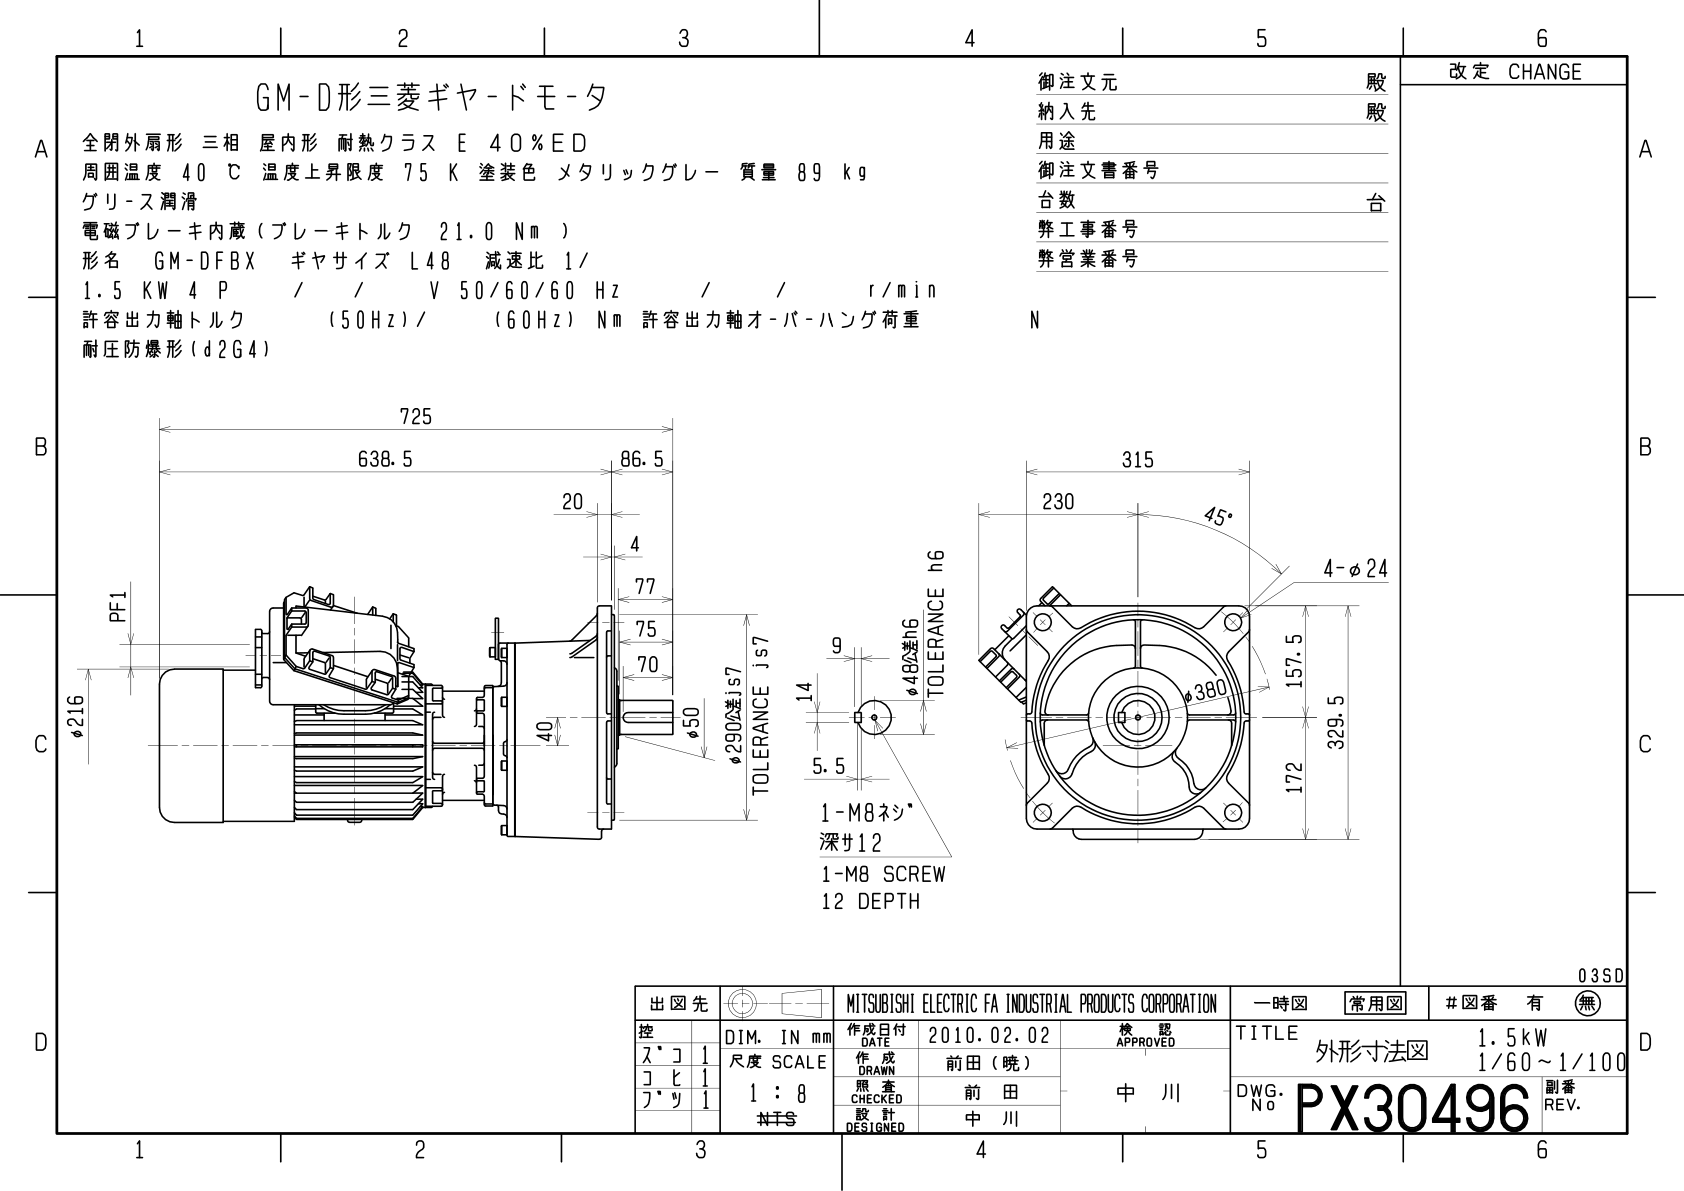GM_SP_屋内＿三相_フランジ: (63, 388, 1397, 924)
